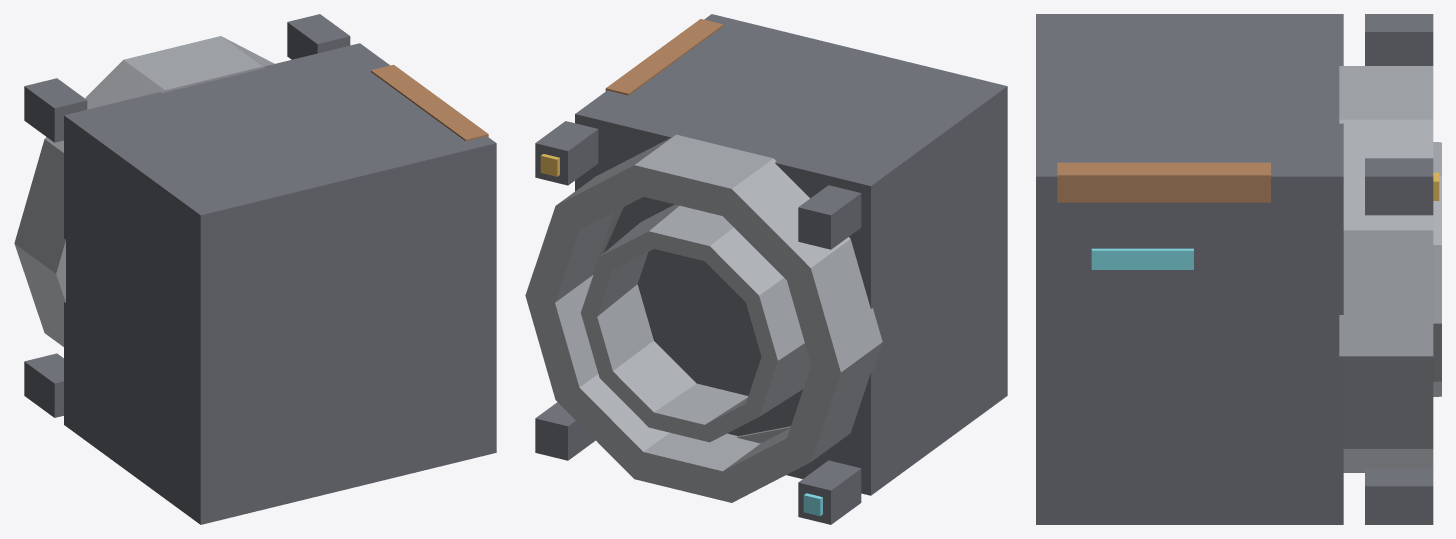
Rendered from dock_bellows.glb.
The picture shows the model from 3 angles, left to right: view 1: azimuth 30°, elevation 25°; view 2: azimuth 150°, elevation 25°; view 3: azimuth 270°, elevation 25°; orthographic projection. The views are drawn at different scales.
Parts seen in each view (by area): view 1: object 1; view 2: object 1, dock_tube; view 3: object 1, dock_tube.
Boxes of the visible parts, x1=… form: object 1: x1=14, y1=14, x2=496, y2=524; object 1: x1=525, y1=14, x2=1007, y2=524; dock_tube: x1=581, y1=204, x2=811, y2=442; object 1: x1=1036, y1=14, x2=1439, y2=524; dock_tube: x1=1433, y1=142, x2=1441, y2=396.
Size of the model in its own units: 0.96 by 0.913 by 0.95.
